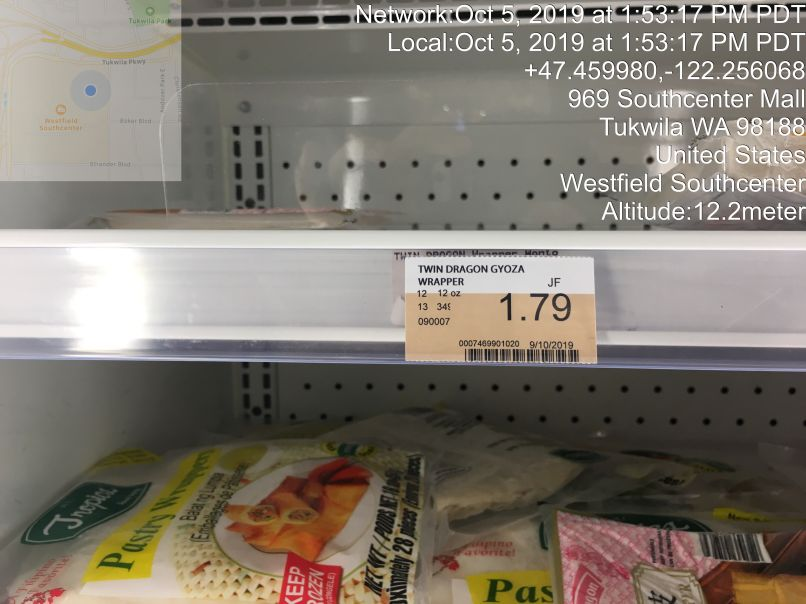Label: (398, 251, 613, 373)
Location: (552, 84, 806, 201)
Time: (349, 1, 806, 55)
Void: (7, 8, 570, 214)
